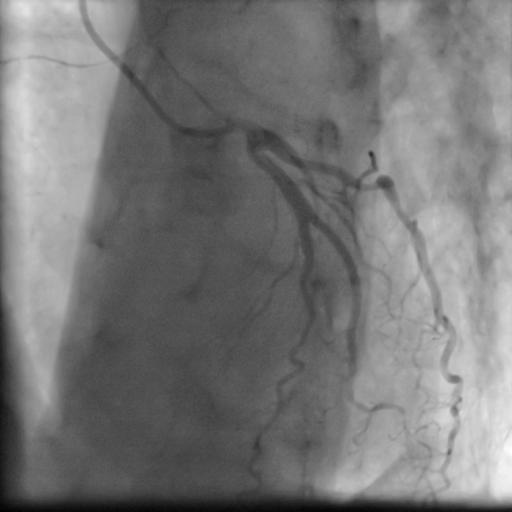Stenosis: (356, 166, 390, 206)
